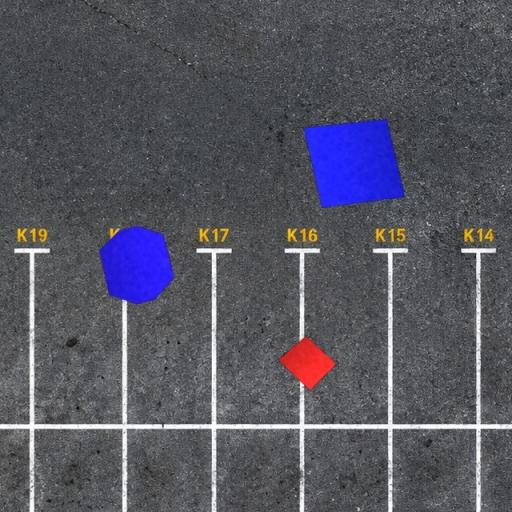BLUE_SQUARE: (304, 118, 406, 209)
RED_SQUARE: (278, 335, 336, 391)
